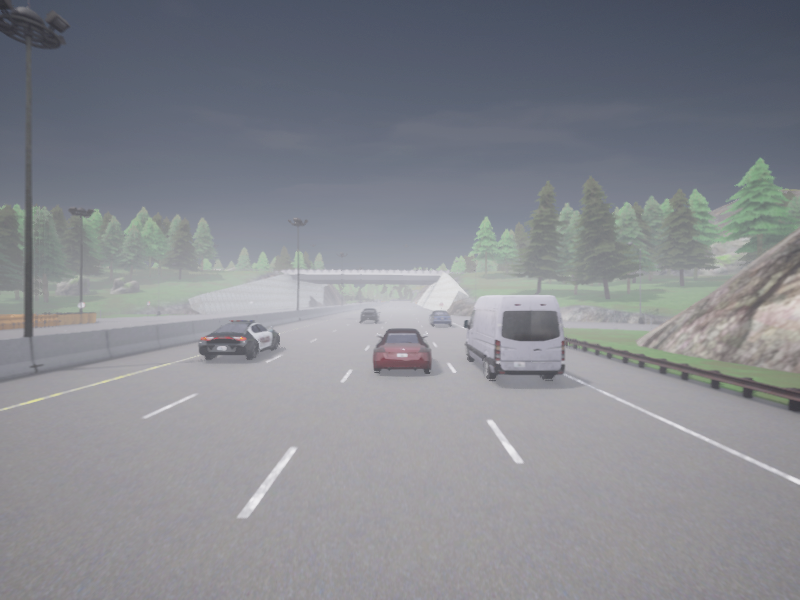vehicle: (464, 295, 564, 380), (198, 320, 279, 359), (373, 328, 431, 372), (428, 311, 451, 325), (360, 308, 380, 322)
